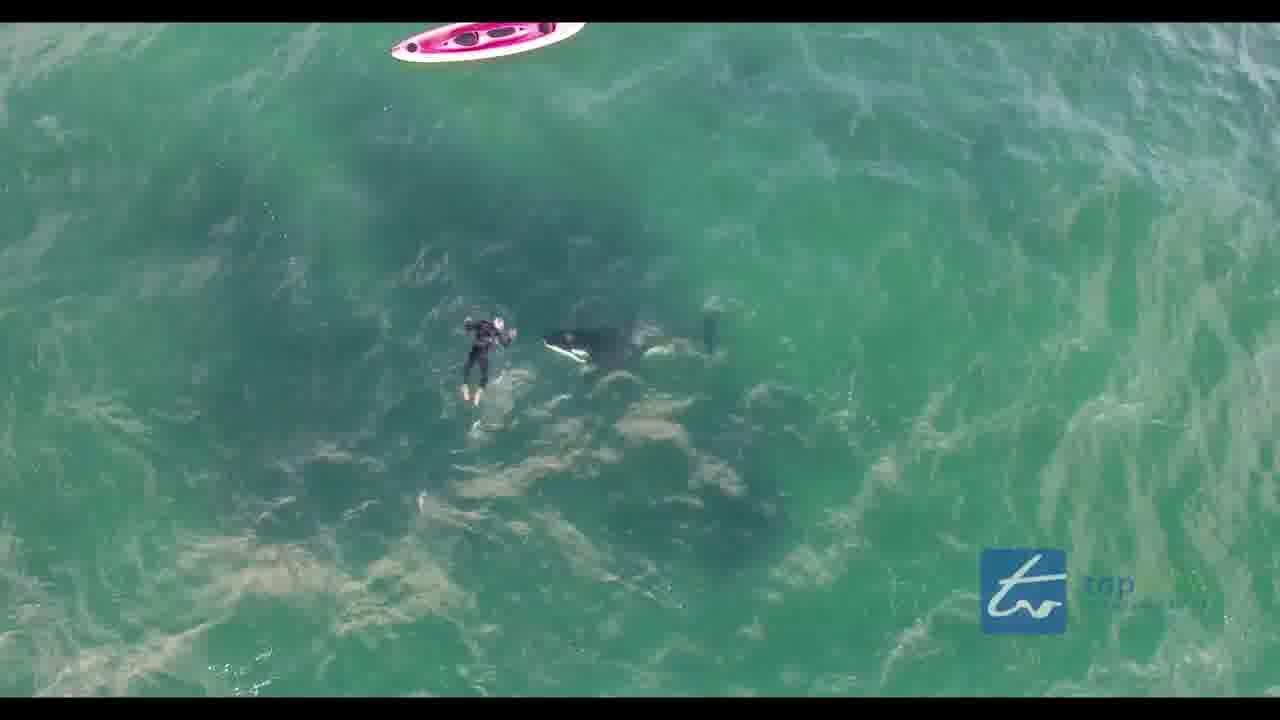swimmer: (458, 307, 503, 397)
